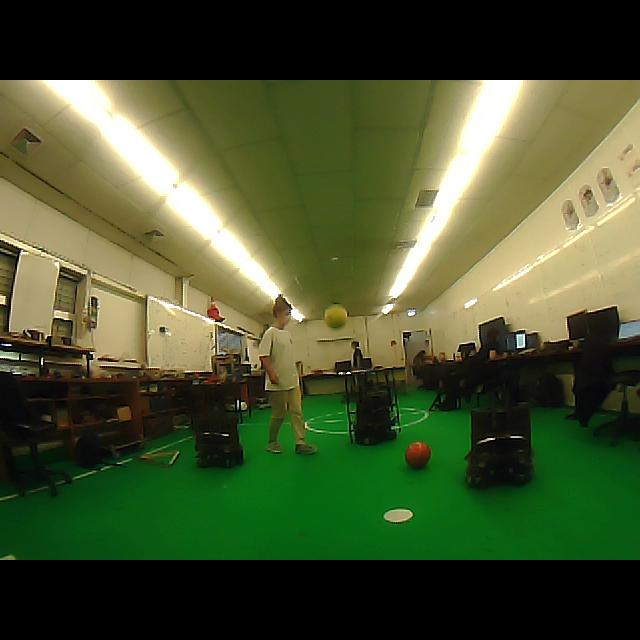ball: (405, 441, 431, 469), (324, 304, 348, 328)
robot: (465, 404, 534, 488), (191, 382, 244, 468), (345, 369, 401, 444)
